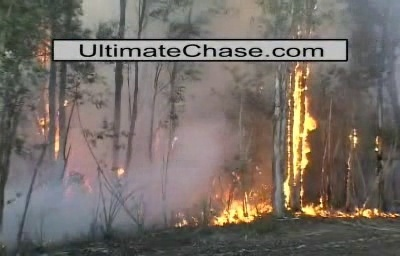fire: (283, 62, 318, 210), (209, 166, 273, 226)
